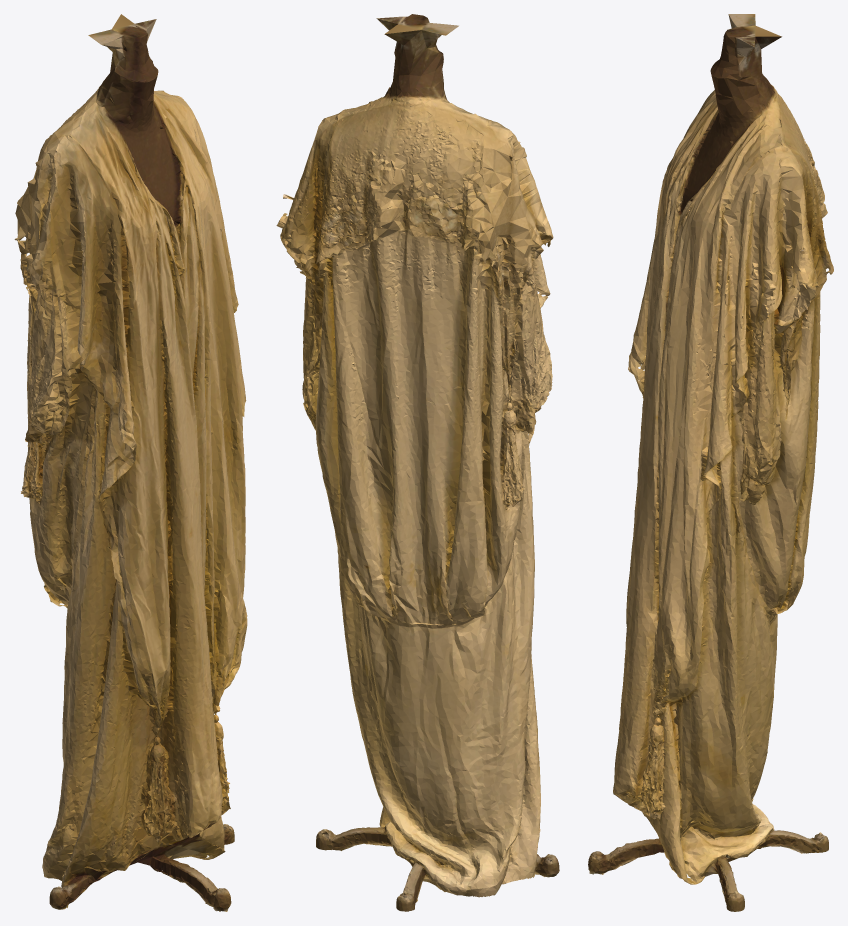
The picture shows the model from 3 angles, left to right: view 1: azimuth 30°, elevation 25°; view 2: azimuth 150°, elevation 25°; view 3: azimuth 270°, elevation 25°; orthographic projection. The views are drawn at different scales.
Parts seen in each view (by area): view 1: rb_display; view 2: rb_display; view 3: rb_display.
Part boxes in pixels (x1,y1,x2,y2): rb_display: (14, 14, 247, 911); rb_display: (276, 14, 559, 911); rb_display: (588, 14, 833, 911).
Size of the model in its own units: 7.04 by 25.27 by 6.76.
1 material, 1 textured.
